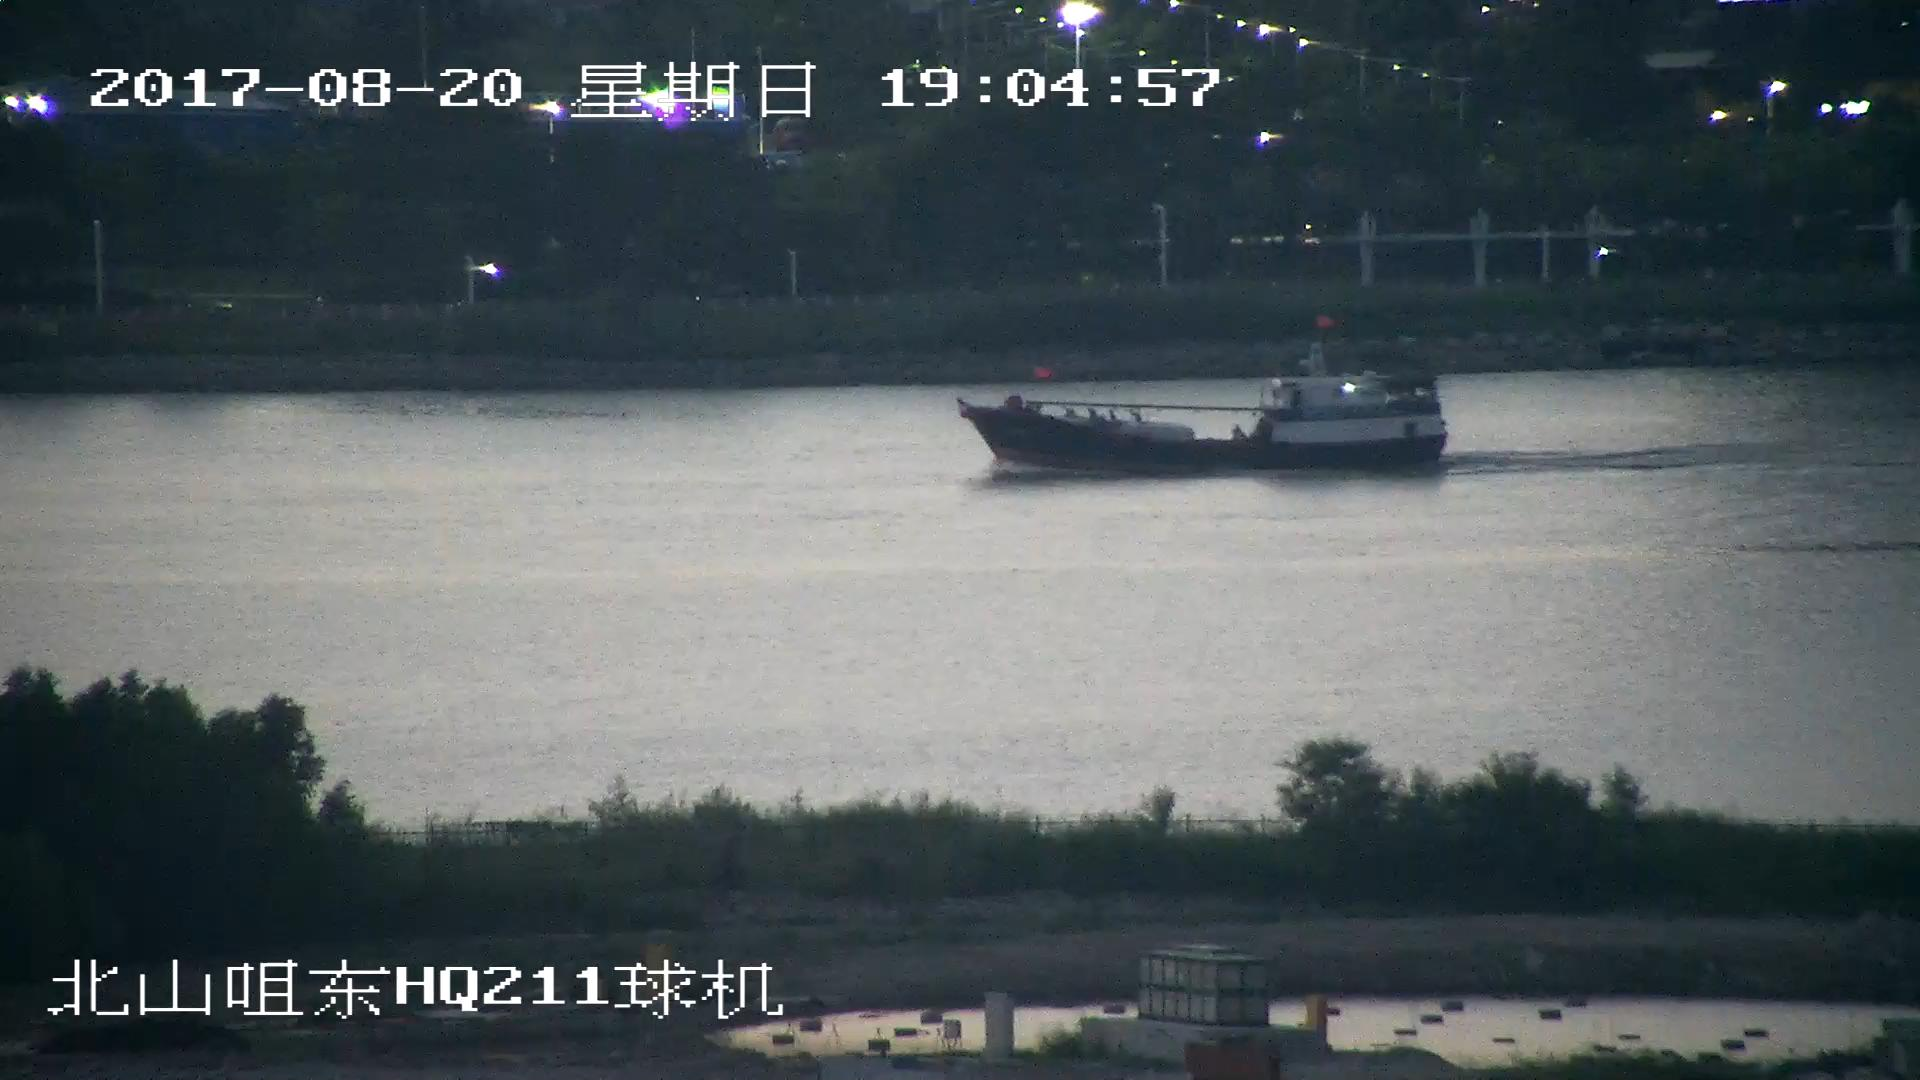fishing boat: (964, 341, 1448, 470)
